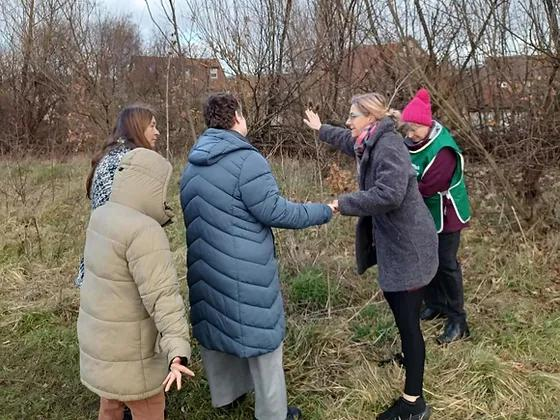coat: (179, 125, 335, 351), (74, 147, 192, 401), (319, 118, 439, 294)
trousers: (201, 337, 288, 420), (386, 282, 427, 401), (430, 227, 464, 322), (95, 383, 167, 420)
